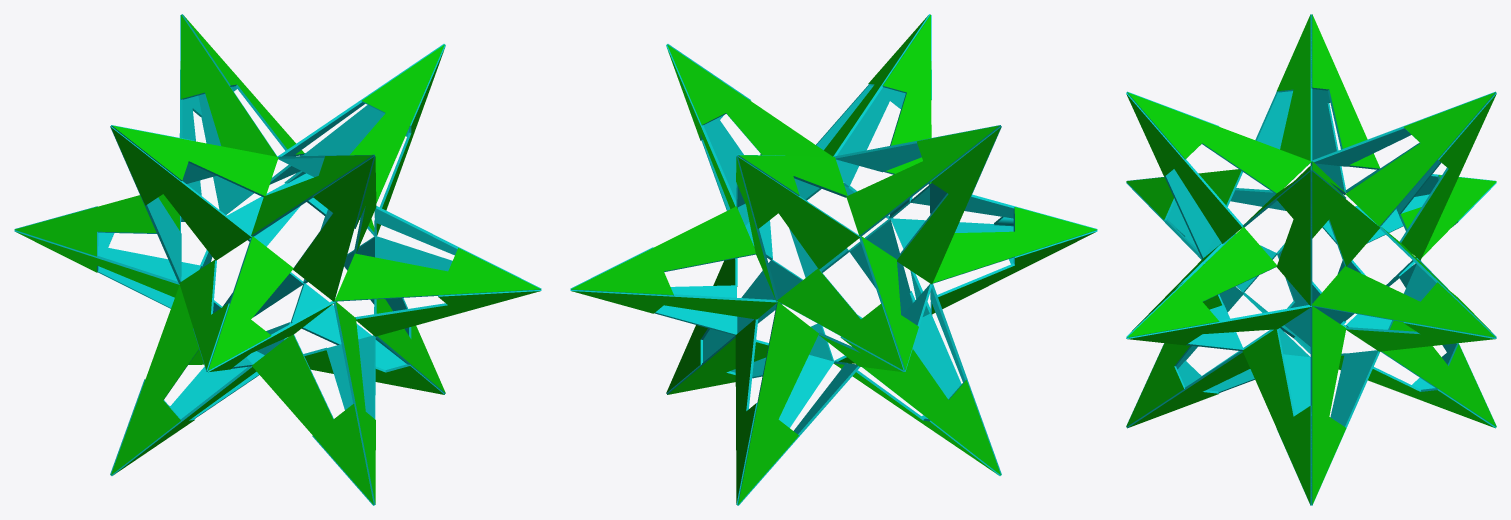
File: GreatRhombihexacronS.glb
3 renders of one model, left to right at view 1: azimuth 30°, elevation 25°; view 2: azimuth 150°, elevation 25°; view 3: azimuth 270°, elevation 25°, orthographic. The views are drawn at different scales.
Visible parts, largest first — view 1: root; view 2: root; view 3: root.
Part boxes in pixels (box(x1,y1,x2,y2)): root: box(14, 14, 541, 505); root: box(570, 14, 1097, 505); root: box(1126, 14, 1496, 505).
Bounding box in the file's own units: 7.42 × 7.42 × 7.42.
